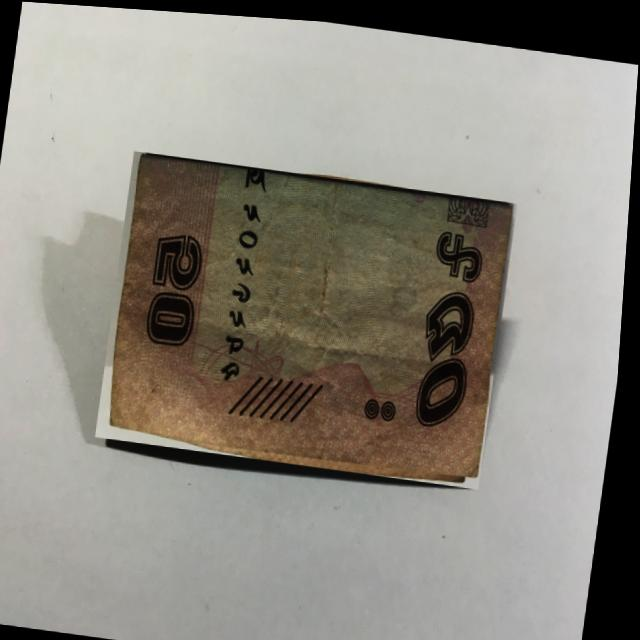Taka: (99, 148, 521, 484)
